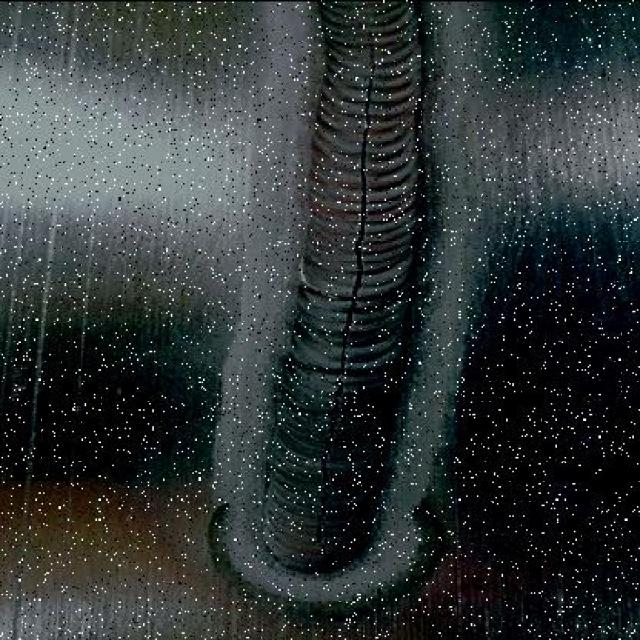Defect: (297, 25, 400, 564)
